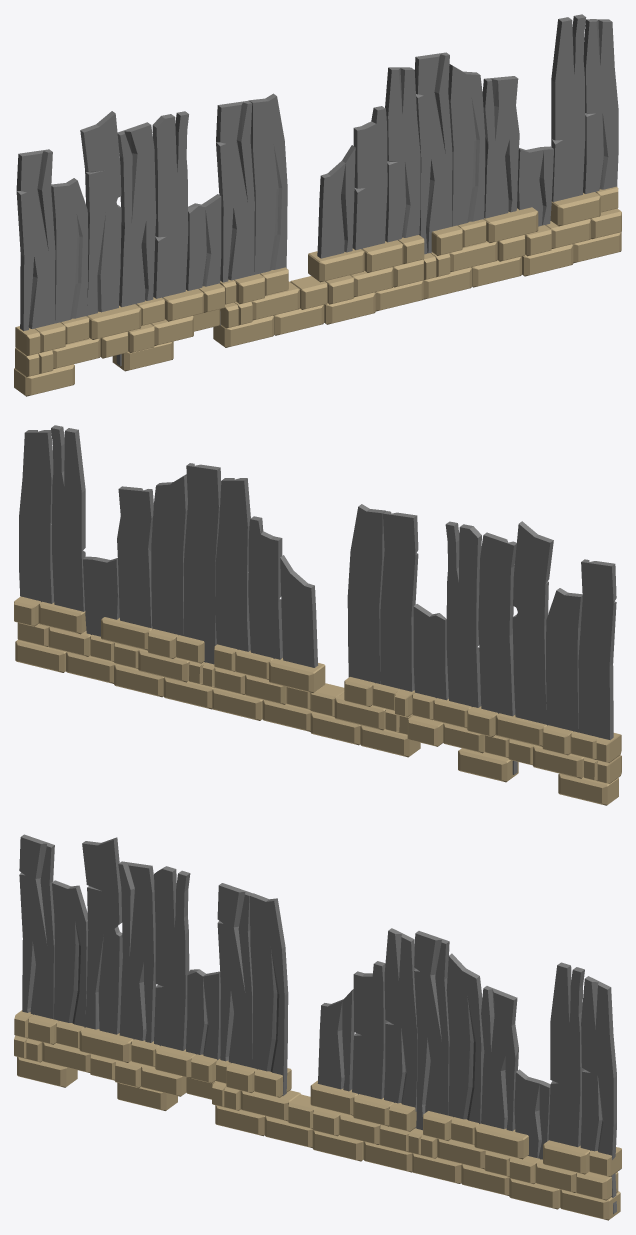
The model's file is prop_wood_wall_2.FBX.
The picture shows the model from 3 angles, top to bottom: view 1: azimuth 30°, elevation 25°; view 2: azimuth 150°, elevation 25°; view 3: azimuth 330°, elevation 25°; orthographic projection.
Parts seen in each view (by area): view 1: Object001; view 2: Object001; view 3: Object001.
Part boxes in pixels (x1,y1,x2,y2): Object001: [14, 14, 621, 396]; Object001: [14, 425, 621, 805]; Object001: [14, 834, 621, 1220].
Bounding box in the file's own units: 3.01 × 1.24 × 0.1825.
